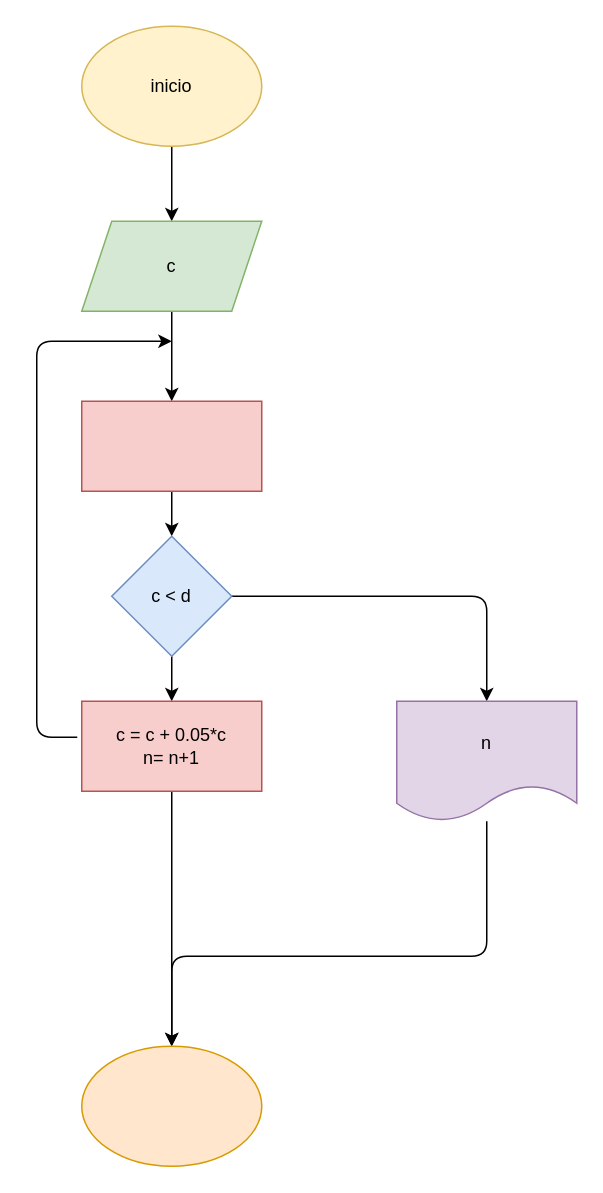
Some shapes in this 603 by 1193 pixel diagram are drawn without their labels. Here are the shapes that lost their labels. From the top down, the centre of each, then its label:
At pixel 171 445: "d= 2*c n= 0".
At pixel 171 1105: "fin".
